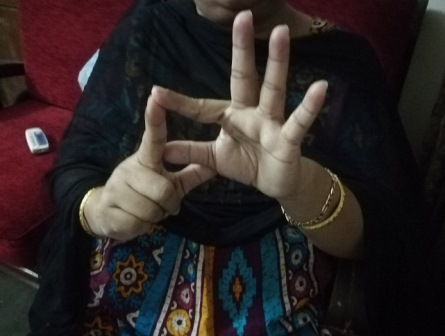k: (124, 9, 328, 209)
